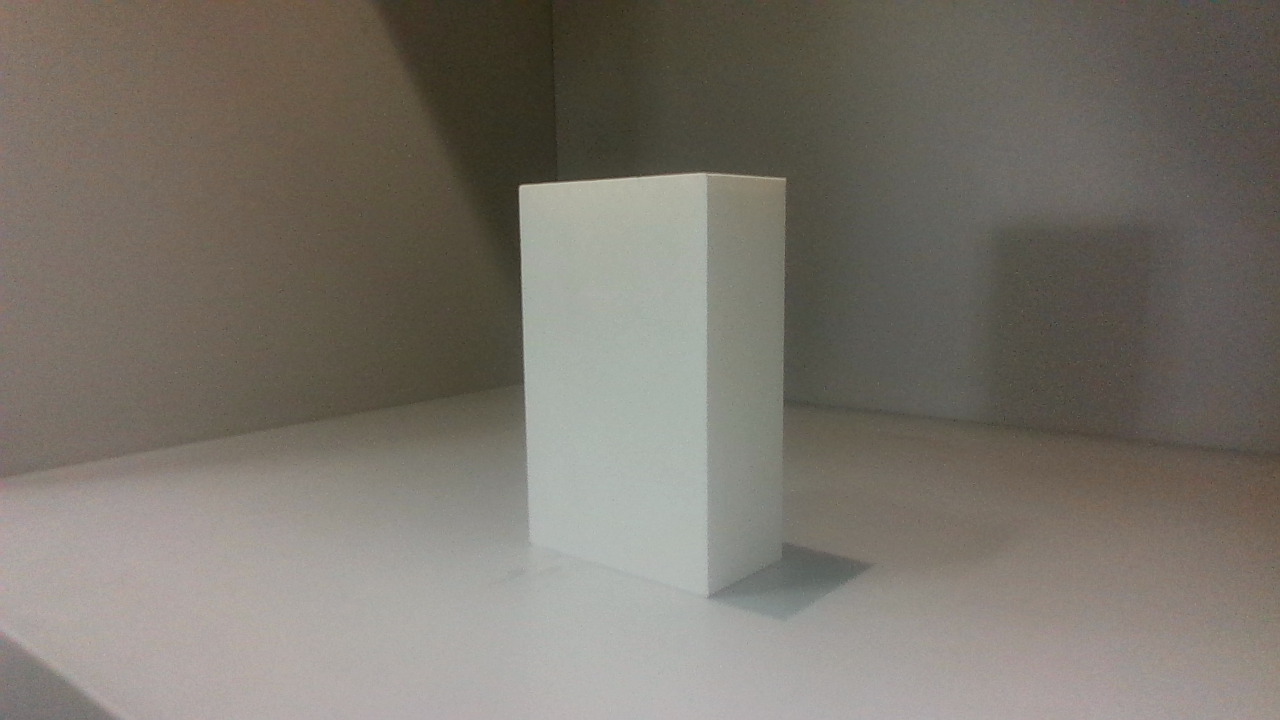Retangulo: (520, 173, 784, 596)
